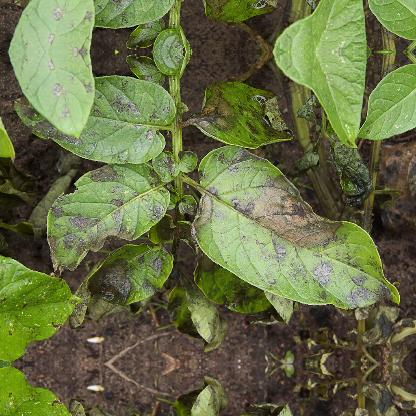Early-Blight: (188, 140, 408, 314), (41, 148, 178, 272), (19, 78, 192, 165), (187, 65, 311, 151), (6, 52, 104, 128), (84, 227, 176, 307), (6, 0, 104, 52), (187, 0, 311, 39), (19, 0, 192, 26)
